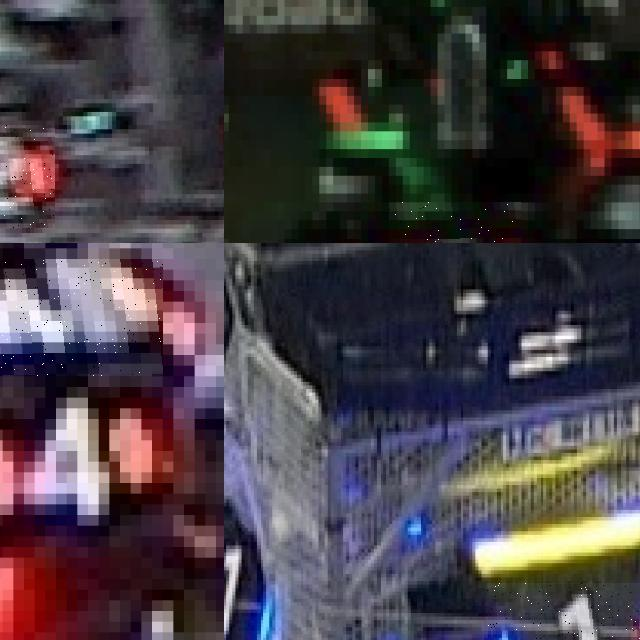B1: (486, 582, 640, 640), (224, 522, 279, 640)
R2: (0, 125, 54, 229)
R4: (0, 386, 162, 536), (0, 258, 162, 376)
Rs: (389, 202, 521, 243)
